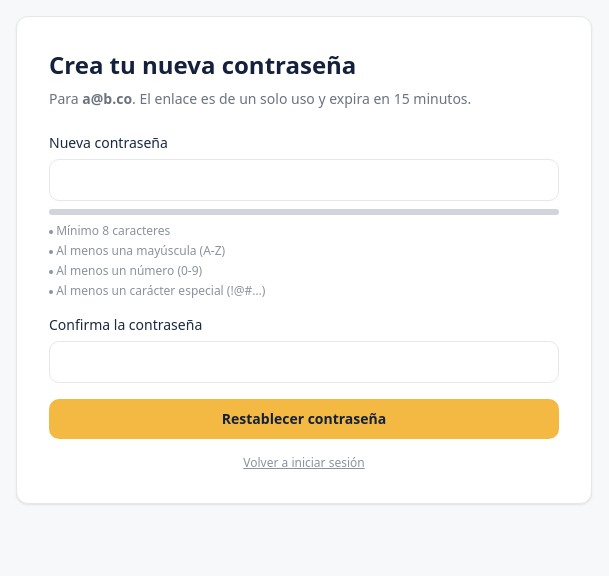
Test: Restablecer (fortaleza v13 + un solo uso) › éxito confirma revocación de sesiones y navega a perfil
Type "Segura1!x" into the password field labelled "Nueva contraseña" at (304, 180), box [49, 159, 559, 201]
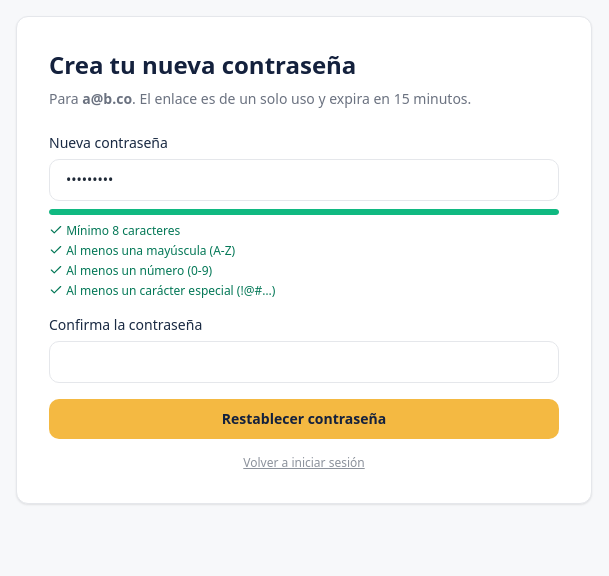
Type "Segura1!x" into the password field labelled "Confirma la contraseña" at (304, 362), box [49, 341, 559, 383]
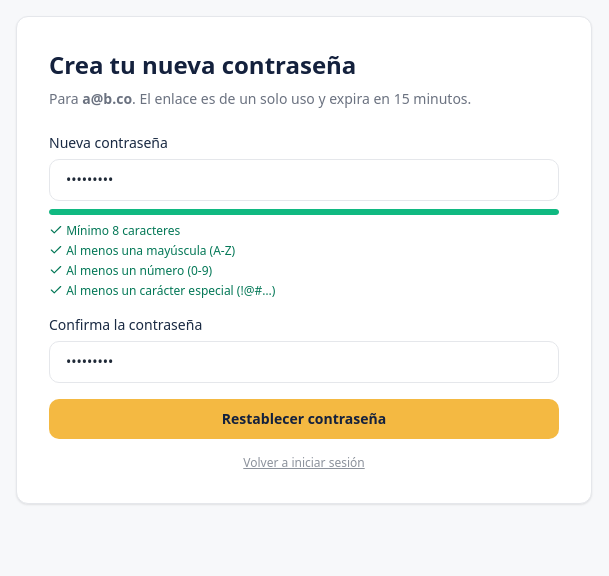
Click the button "Restablecer contraseña" at (304, 419), box [49, 399, 559, 439]
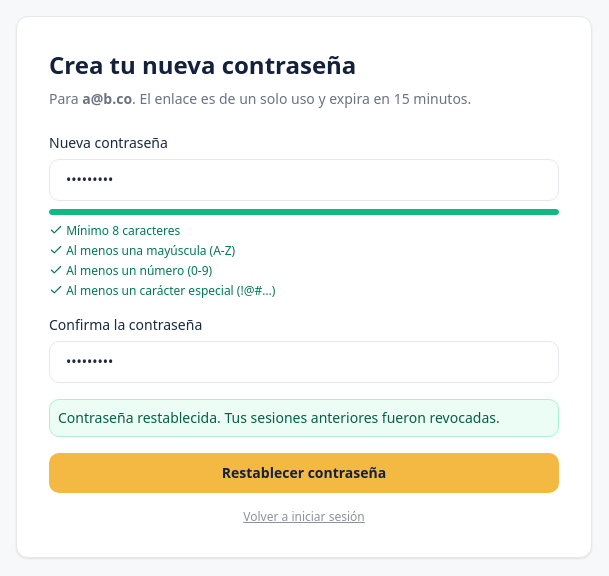
Check: the text "Contraseña restablecida. Tus sesiones anteriores fueron revocadas." is shown, box [49, 399, 559, 437]
